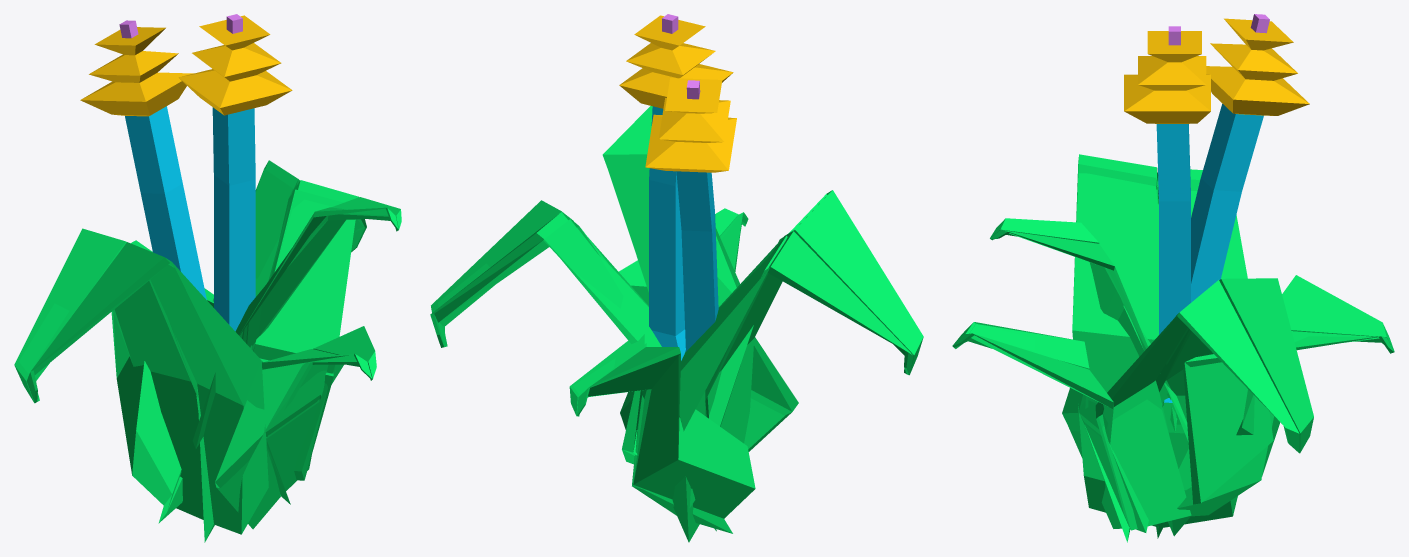
File: tree6.glb
3 views of the same model, side by side, from view 1: azimuth 30°, elevation 25°; view 2: azimuth 150°, elevation 25°; view 3: azimuth 270°, elevation 25° (orthographic). The views are drawn at different scales.
Parts seen in each view (by area): view 1: Cube; view 2: Cube; view 3: Cube.
Boxes of the visible parts, <box> form: Cube: <box>14,14,401,542</box>; Cube: <box>430,14,923,542</box>; Cube: <box>952,14,1394,542</box>.
Size of the model in its own units: 12.69 by 14.9 by 11.29.
